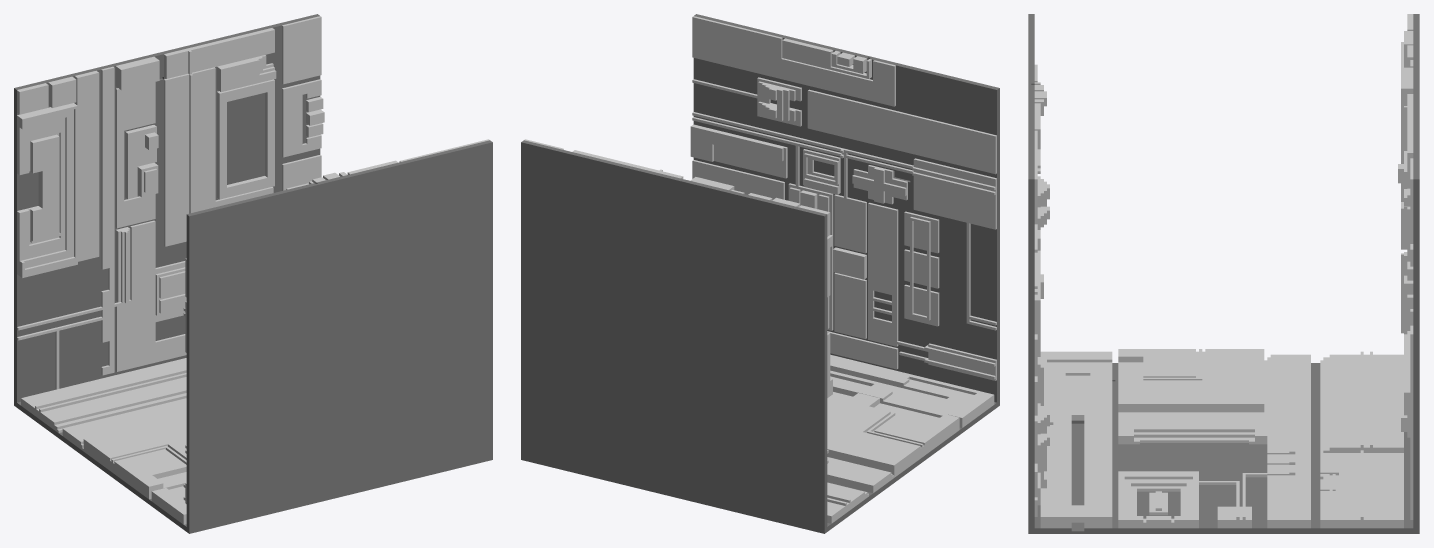
Rendered from trenche.obj.
The picture shows the model from 3 angles, left to right: view 1: azimuth 30°, elevation 25°; view 2: azimuth 150°, elevation 25°; view 3: azimuth 270°, elevation 25°; orthographic projection. The views are drawn at different scales.
Size of the model in its own units: 126 by 126 by 126.
1 material, 1 textured.
